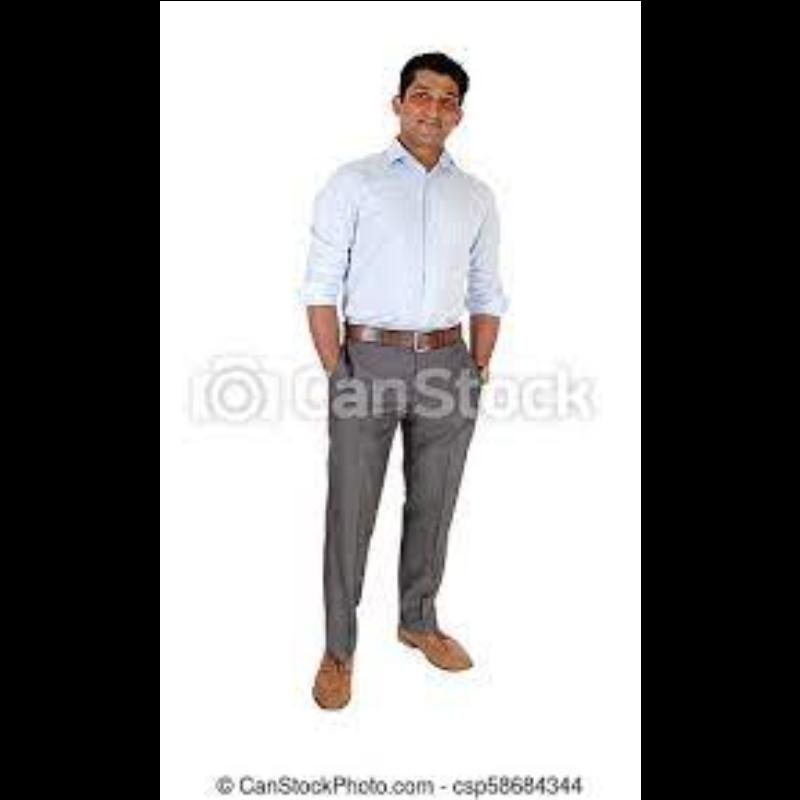Pant: (272, 324, 524, 658)
Shirt: (254, 130, 548, 354)
